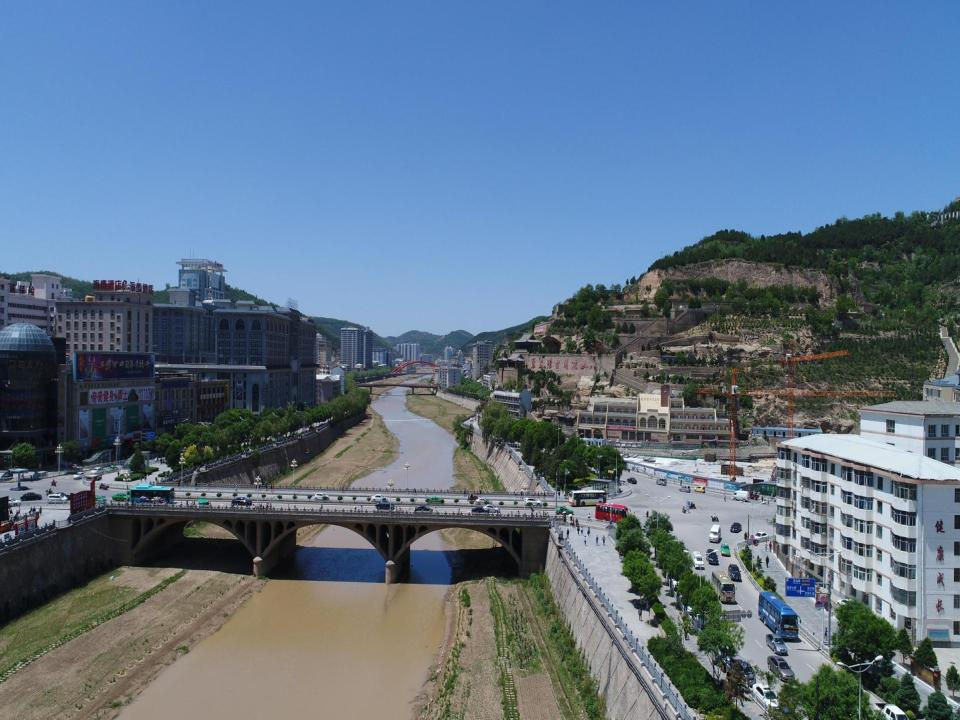bus: (758, 591, 801, 641), (711, 570, 737, 606), (128, 486, 176, 504), (595, 504, 631, 526), (569, 490, 607, 508)
car: (767, 654, 795, 684), (752, 684, 783, 711), (718, 642, 738, 666), (766, 634, 788, 655), (692, 608, 713, 630), (728, 564, 741, 581), (50, 492, 74, 501), (706, 548, 718, 566), (85, 494, 106, 504), (112, 492, 133, 502), (414, 504, 433, 515), (481, 504, 501, 514), (752, 532, 769, 543), (375, 502, 393, 512), (20, 492, 42, 500), (471, 506, 490, 515), (524, 498, 543, 507), (231, 497, 252, 505), (66, 463, 83, 472), (475, 498, 492, 507), (555, 508, 574, 516), (721, 542, 731, 557), (730, 522, 742, 534), (371, 494, 388, 502), (0, 472, 13, 482), (314, 492, 330, 500), (427, 497, 443, 505), (72, 471, 86, 479), (104, 465, 118, 473), (679, 485, 691, 493), (693, 486, 706, 493), (626, 478, 637, 484), (469, 417, 473, 422), (473, 415, 476, 421)
truck: (873, 702, 909, 719), (89, 466, 105, 476)
van: (730, 655, 757, 686), (731, 490, 750, 503), (709, 524, 721, 544), (692, 552, 704, 569), (46, 494, 68, 502), (656, 478, 667, 486)
